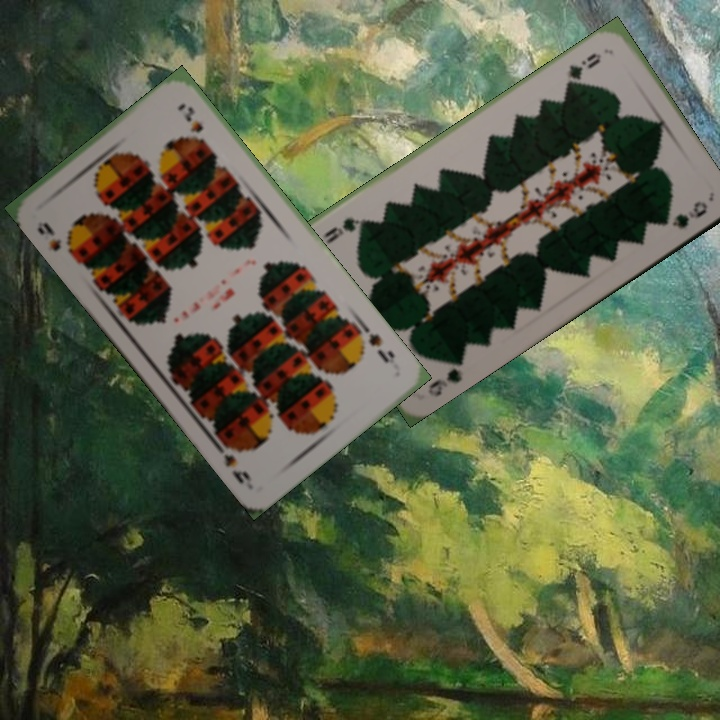G9: (423, 355, 466, 400), (562, 48, 604, 90)
S9: (33, 218, 79, 260), (364, 329, 397, 366)
